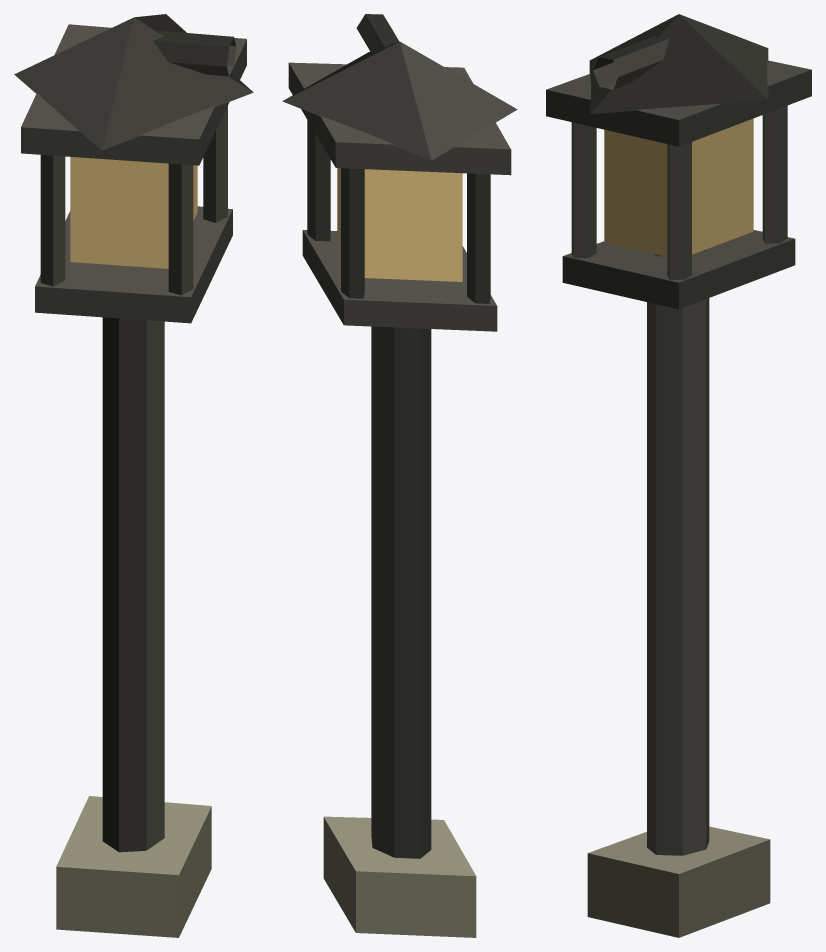
The picture shows the model from 3 angles, left to right: view 1: azimuth 30°, elevation 25°; view 2: azimuth 150°, elevation 25°; view 3: azimuth 270°, elevation 25°; orthographic projection. The views are drawn at different scales.
Visible parts, largest first — view 1: 2ff7321b78f345536865e5369b92b61b25ed094eb35cb14eb3ef509b8425; view 2: 2ff7321b78f345536865e5369b92b61b25ed094eb35cb14eb3ef509b8425; view 3: 2ff7321b78f345536865e5369b92b61b25ed094eb35cb14eb3ef509b8425.
Boxes of the visible parts, x1=… form: 2ff7321b78f345536865e5369b92b61b25ed094eb35cb14eb3ef509b8425: x1=14, y1=14, x2=253, y2=937; 2ff7321b78f345536865e5369b92b61b25ed094eb35cb14eb3ef509b8425: x1=282, y1=14, x2=517, y2=937; 2ff7321b78f345536865e5369b92b61b25ed094eb35cb14eb3ef509b8425: x1=546, y1=14, x2=811, y2=937.
Bounding box in the file's own units: 0.9051 × 3.41 × 0.9051.
Materials: 2 (1 with a texture image).
